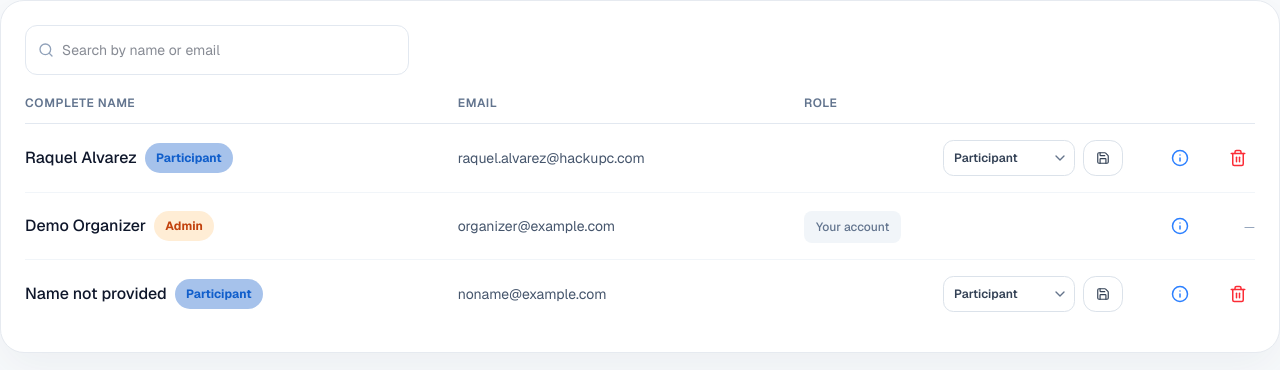
Scenario: UsersTable › shows an empty state when nothing matches
The image size is (1280, 370).
Type "nobody-matches-this" into the search field named "Search users by name or email" at (229, 50), box [62,26,396,74]
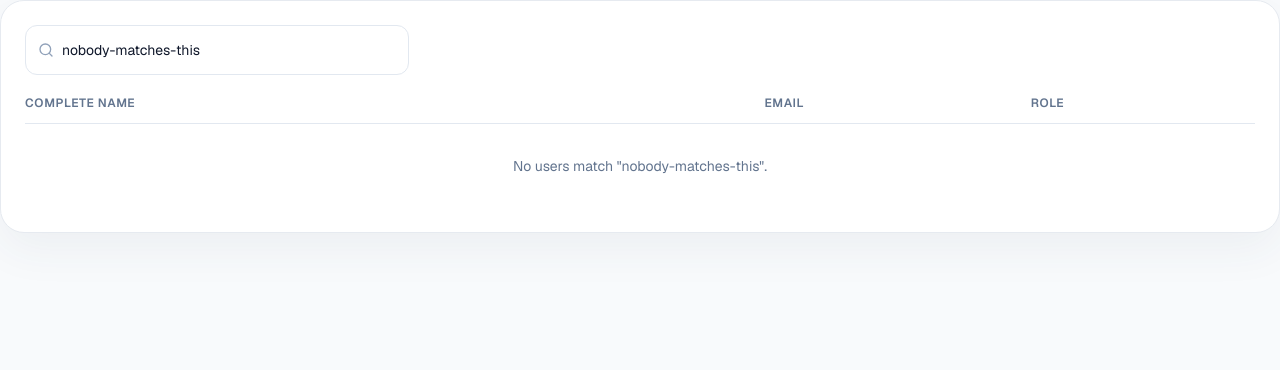
Now the text "No users match \"nobody-matches-this\"." is shown, box [513,157,767,175]
Now the text "Raquel Alvarez" is gone
